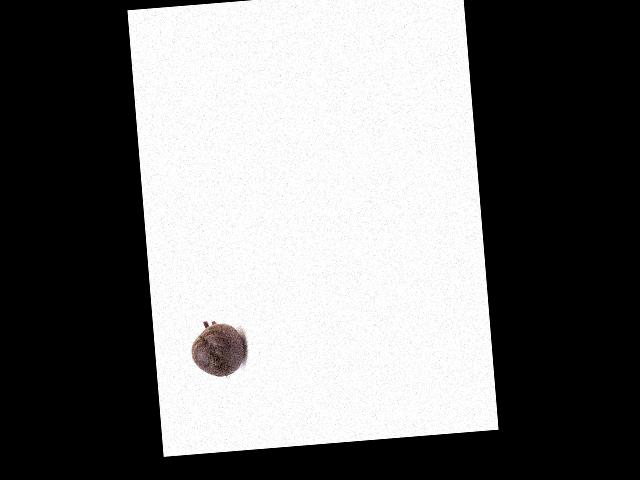beet: (189, 319, 247, 379)
